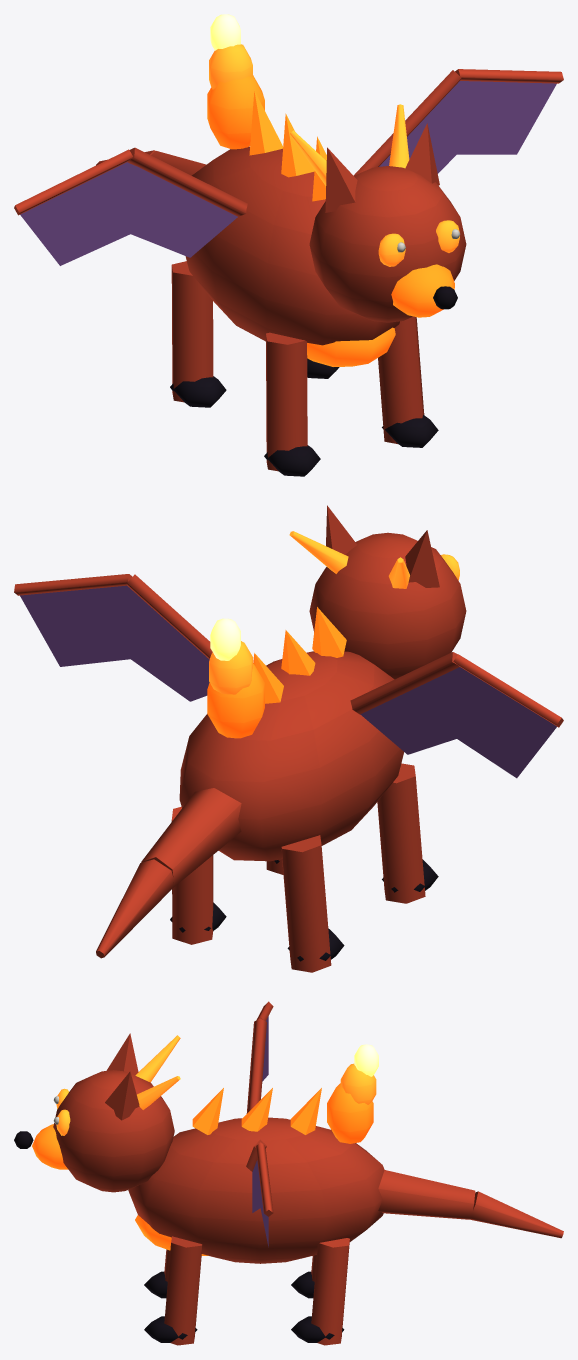
The model's file is monster_lava_drake.glb.
The picture shows the model from 3 angles, top to bottom: view 1: azimuth 30°, elevation 25°; view 2: azimuth 150°, elevation 25°; view 3: azimuth 270°, elevation 25°; orthographic projection. The views are drawn at different scales.
Visible parts, largest first — view 1: body_t0_palette, wingl_t0_palette, legl_t0_palette, wingr_t0_palette, body_t0_lava, legr_t0_palette, body_t0_fire, body_t0_glow_gold, tail_t0_palette; view 2: body_t0_palette, wingr_t0_palette, wingl_t0_palette, legl_t0_palette, tail_t0_palette, body_t0_lava, legr_t0_palette, body_t0_fire, body_t0_glow_gold; view 3: body_t0_palette, legr_t0_palette, body_t0_lava, tail_t0_palette, body_t0_fire, wingl_t0_palette, wingr_t0_palette, legl_t0_palette, body_t0_glow_gold.
Part boxes in pixels (x1=…): body_t0_palette: x1=185, y1=123, x2=466, y2=345; wingl_t0_palette: x1=14, y1=147, x2=247, y2=265; legl_t0_palette: x1=170, y1=261, x2=320, y2=476; wingr_t0_palette: x1=353, y1=69, x2=563, y2=175; body_t0_lava: x1=207, y1=75, x2=454, y2=366; legr_t0_palette: x1=307, y1=316, x2=438, y2=447; body_t0_fire: x1=209, y1=44, x2=459, y2=266; body_t0_glow_gold: x1=210, y1=14, x2=240, y2=50; tail_t0_palette: x1=96, y1=150, x2=206, y2=175; body_t0_palette: x1=179, y1=505, x2=466, y2=861; wingr_t0_palette: x1=14, y1=574, x2=212, y2=701; wingl_t0_palette: x1=350, y1=652, x2=563, y2=778; legl_t0_palette: x1=281, y1=763, x2=438, y2=972; tail_t0_palette: x1=96, y1=788, x2=241, y2=958; body_t0_lava: x1=207, y1=607, x2=346, y2=738; legr_t0_palette: x1=170, y1=806, x2=283, y2=944; body_t0_fire: x1=209, y1=531, x2=459, y2=694; body_t0_glow_gold: x1=210, y1=618, x2=240, y2=660; body_t0_palette: x1=14, y1=1033, x2=384, y2=1263; legr_t0_palette: x1=144, y1=1236, x2=349, y2=1345; body_t0_lava: x1=32, y1=1083, x2=373, y2=1255; tail_t0_palette: x1=378, y1=1170, x2=563, y2=1238; body_t0_fire: x1=56, y1=1035, x2=376, y2=1135; wingl_t0_palette: x1=246, y1=1001, x2=273, y2=1113; wingr_t0_palette: x1=246, y1=1139, x2=273, y2=1247; legl_t0_palette: x1=144, y1=1249, x2=316, y2=1298; body_t0_glow_gold: x1=354, y1=1044, x2=378, y2=1076.
Size of the model in its own units: 0.6033 by 0.3706 by 0.6737.
